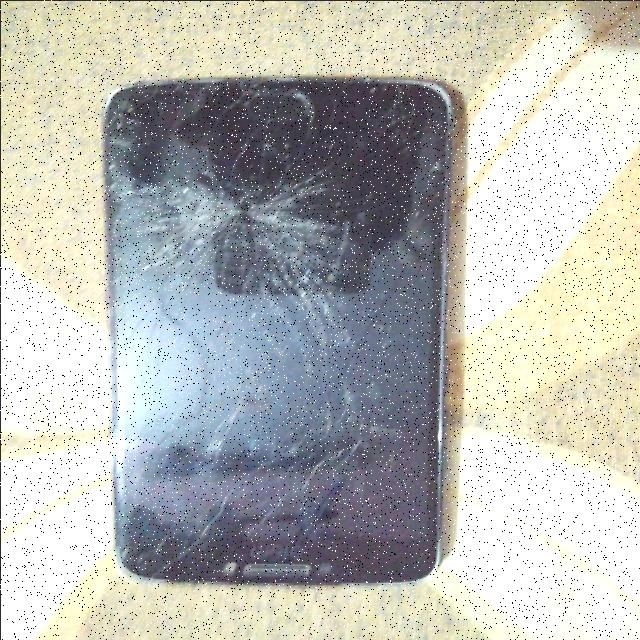Crack: (86, 50, 480, 602)
